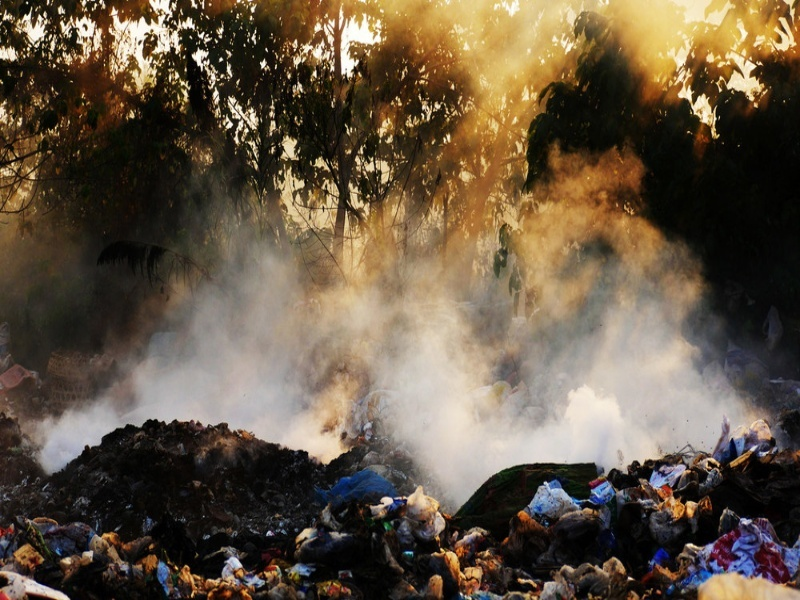smoke: (34, 265, 764, 449)
